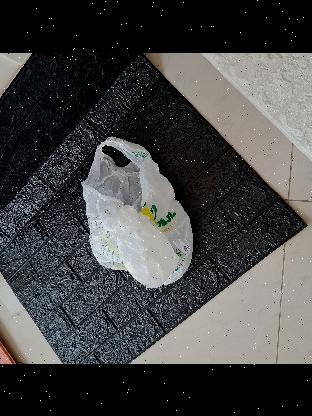Others: (80, 136, 192, 288)
